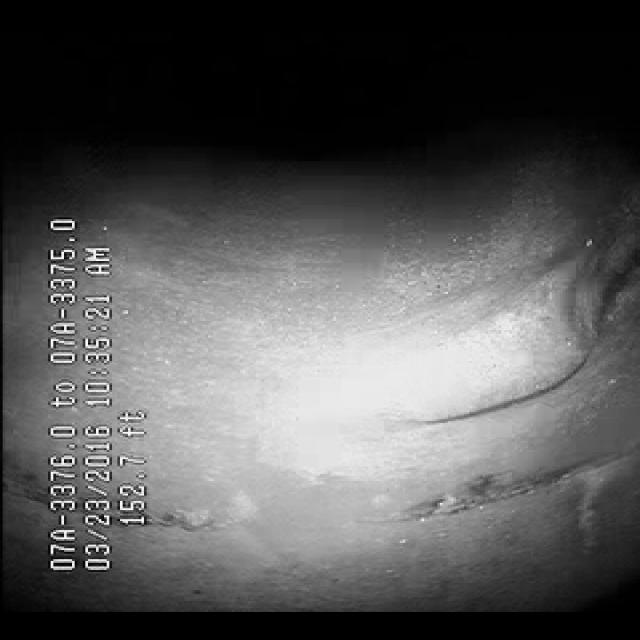Crack: (364, 442, 598, 535)
